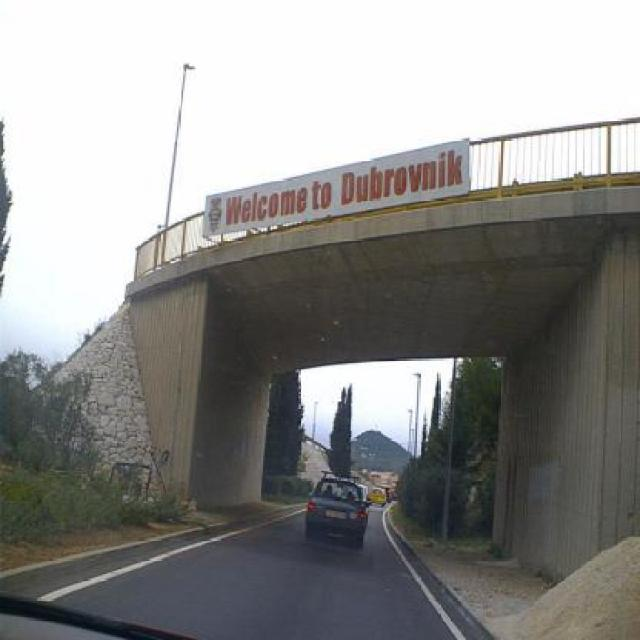License-Plates: (326, 508, 347, 519)
